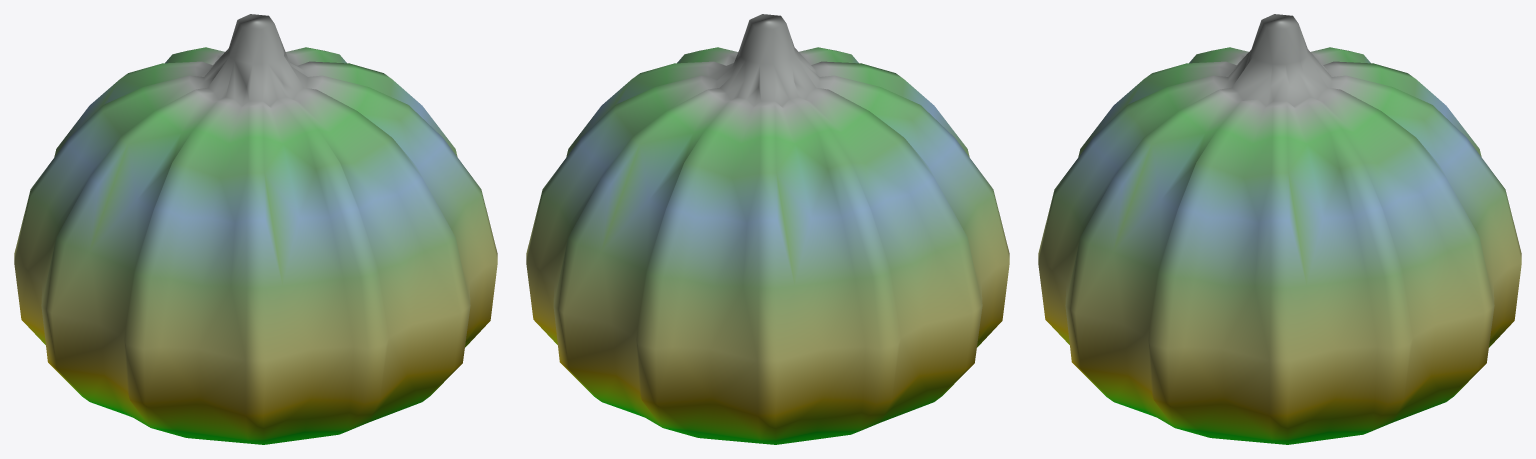
The picture shows the model from 3 angles, left to right: view 1: azimuth 30°, elevation 25°; view 2: azimuth 150°, elevation 25°; view 3: azimuth 270°, elevation 25°; orthographic projection.
Parts seen in each view (by area): view 1: G:\FFXIV-MapTools\exports\y6f3\bg\ex5\02_ykt_y6\fld\y6f3\bgp; view 2: G:\FFXIV-MapTools\exports\y6f3\bg\ex5\02_ykt_y6\fld\y6f3\bgp; view 3: G:\FFXIV-MapTools\exports\y6f3\bg\ex5\02_ykt_y6\fld\y6f3\bgp.
Boxes of the visible parts, box(x1,y1,x2,y2) form: G:\FFXIV-MapTools\exports\y6f3\bg\ex5\02_ykt_y6\fld\y6f3\bgp: box(14, 14, 497, 444); G:\FFXIV-MapTools\exports\y6f3\bg\ex5\02_ykt_y6\fld\y6f3\bgp: box(526, 14, 1009, 444); G:\FFXIV-MapTools\exports\y6f3\bg\ex5\02_ykt_y6\fld\y6f3\bgp: box(1038, 14, 1521, 444).
Size of the model in its own units: 0.5933 by 0.5094 by 0.5933.
